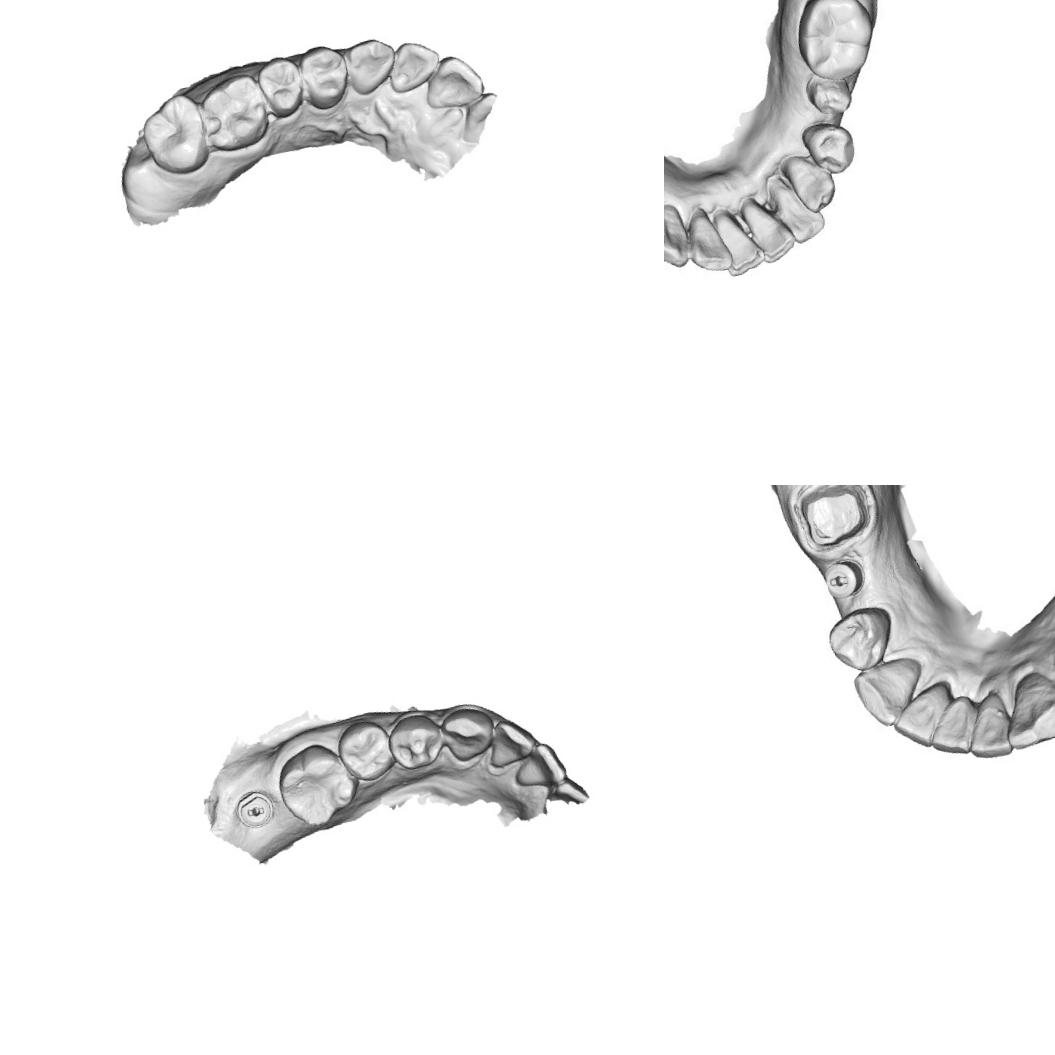canine: (846, 654, 923, 735), (995, 676, 1055, 753), (339, 31, 403, 100), (778, 148, 840, 219), (438, 700, 500, 766), (664, 198, 694, 275)
crown: (790, 485, 883, 557), (799, 68, 858, 123)
implant_minus: (817, 549, 869, 606), (228, 784, 280, 836)
incisor: (884, 681, 958, 755), (416, 48, 489, 116), (920, 691, 984, 762), (740, 196, 802, 268), (380, 34, 448, 98), (713, 203, 770, 279), (771, 175, 830, 248), (681, 210, 737, 280), (507, 738, 570, 796), (481, 712, 541, 772), (962, 700, 1018, 764)
molar: (268, 735, 366, 835), (788, 0, 883, 87), (134, 88, 214, 182), (194, 67, 274, 157)
premolar: (822, 602, 900, 678), (331, 714, 399, 787), (296, 39, 356, 115), (382, 710, 448, 775), (253, 52, 309, 123), (800, 116, 860, 181)
